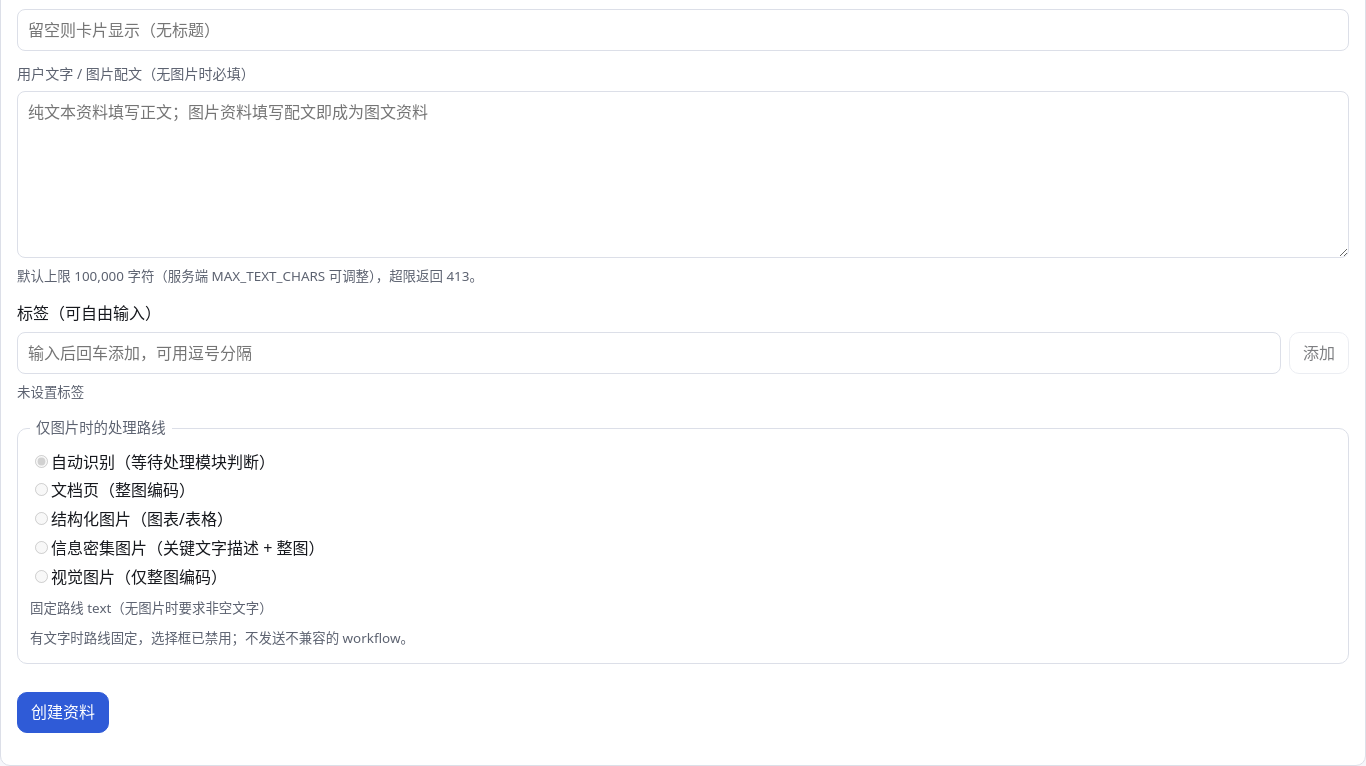
Test: import page › requires text when no image is chosen and never posts an empty resource
(page scrolled)
Step 1. Click the button "创建资料" → (63, 713), box [17,692,109,733]
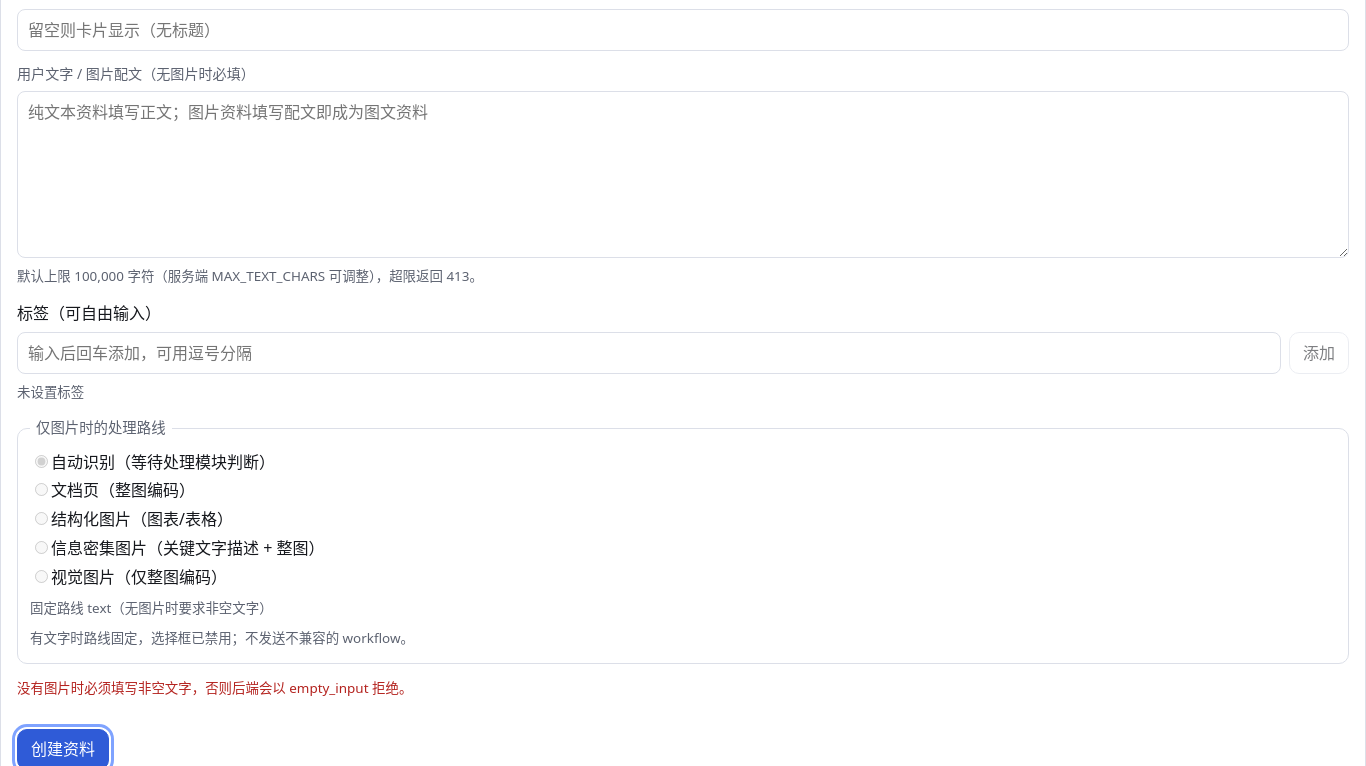
Check: the text "没有图片时必须填写非空文字，否则后端会以 empty_input 拒绝。" is shown, box [17,679,412,697]
